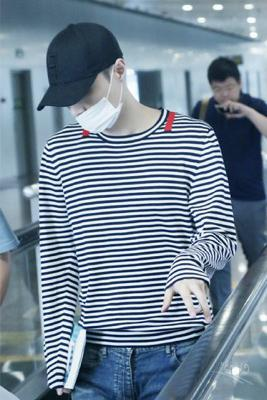mask_weared_incorrect: (66, 75, 119, 133)
without_mask: (211, 78, 240, 106)
